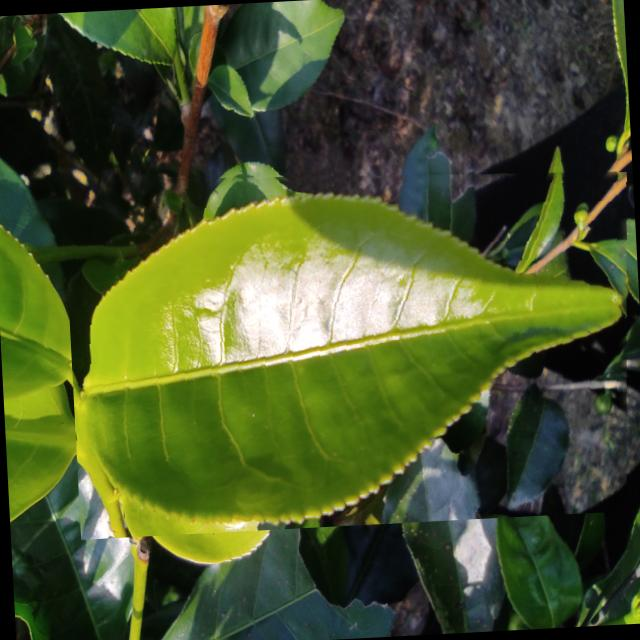Category B(2-4 days): (62, 151, 640, 540)
